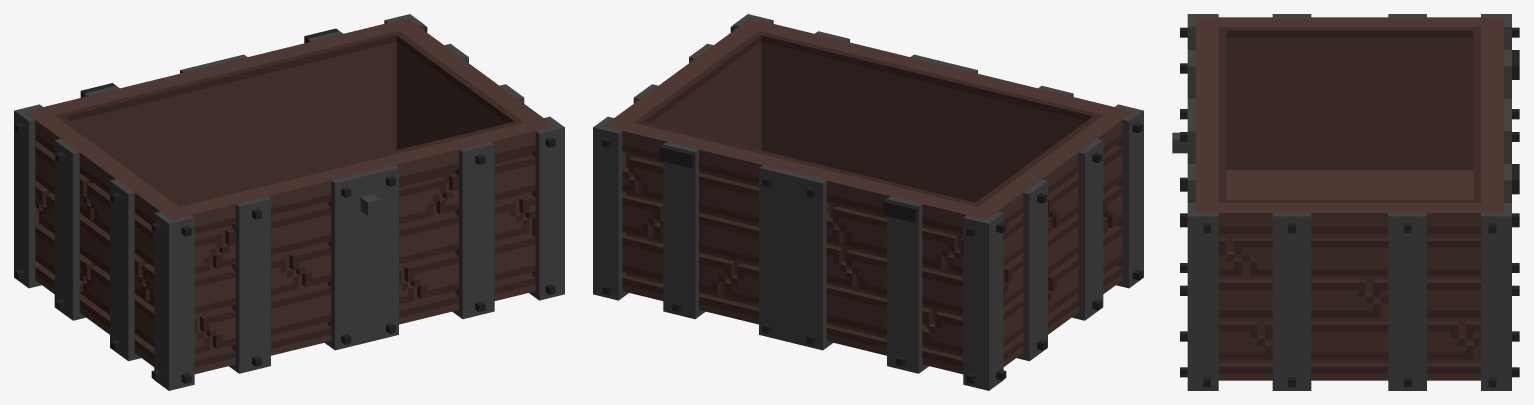
Rendered from Things-5-Chest Body.obj.
3 renders of one model, left to right at view 1: azimuth 30°, elevation 25°; view 2: azimuth 150°, elevation 25°; view 3: azimuth 270°, elevation 25°, orthographic. The views are drawn at different scales.
Parts seen in each view (by area): view 1: Chest Body; view 2: Chest Body; view 3: Chest Body.
Boxes of the visible parts, x1,y1,x2,y2 form: Chest Body: [14, 14, 564, 390]; Chest Body: [593, 14, 1143, 390]; Chest Body: [1172, 14, 1519, 390].
Bounding box in the file's own units: 6.4 × 2.5 × 4.5.
Materials: 1 (1 with a texture image).
